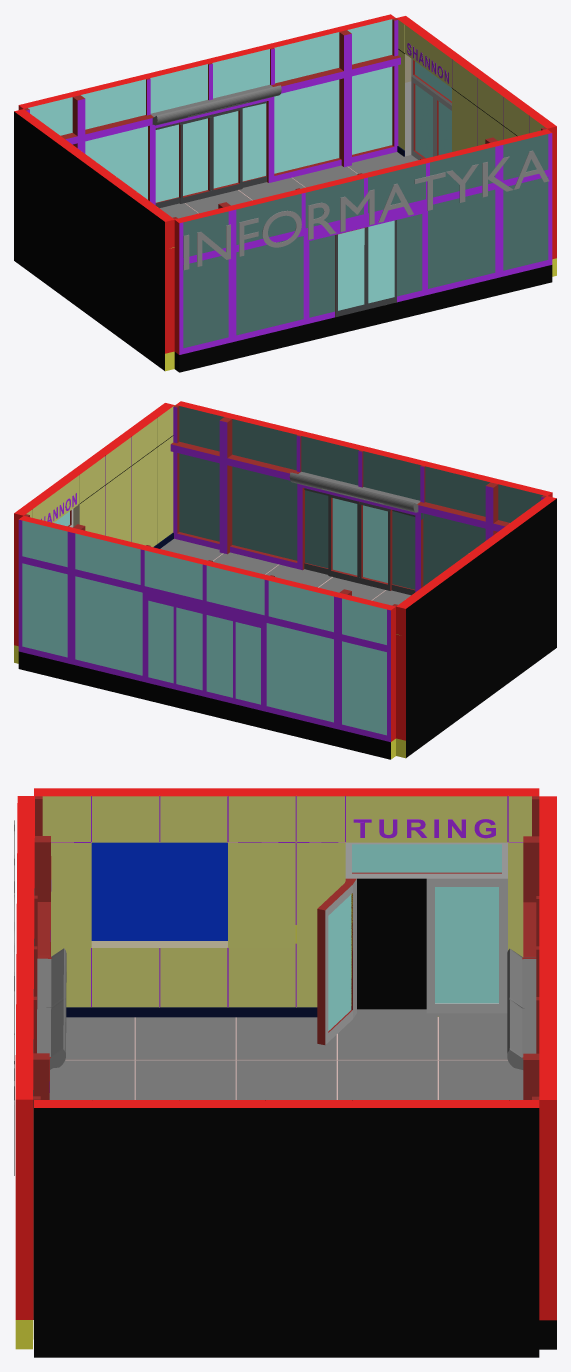
The model's file is reception.fbx.
3 renders of one model, top to bottom at view 1: azimuth 30°, elevation 25°; view 2: azimuth 150°, elevation 25°; view 3: azimuth 270°, elevation 25°, orthographic. The views are drawn at different scales.
Visible parts, largest first — view 1: wallN, wallS, wallE, wallW, floor, doorN2, doorN1; view 2: wallS, wallN, wallE, wallW, floor, doorN2, doorN1; view 3: wallW, wallE, floor, wallN, wallS, doorE.
Boxes of the visible parts, left/top/right/bottom form: wallN: left=173, top=127, right=552, bottom=372; wallS: left=18, top=14, right=400, bottom=208; wallE: left=14, top=109, right=174, bottom=371; wallW: left=396, top=16, right=556, bottom=276; floor: left=160, top=152, right=411, bottom=218; doorN2: left=335, top=227, right=366, bottom=317; doorN1: left=366, top=220, right=396, bottom=309; wallS: left=18, top=514, right=397, bottom=759; wallN: left=170, top=401, right=552, bottom=595; wallE: left=396, top=496, right=556, bottom=758; wallW: left=14, top=403, right=174, bottom=663; floor: left=160, top=538, right=410, bottom=605; doorN2: left=359, top=502, right=392, bottom=590; doorN1: left=328, top=494, right=359, bottom=583; wallW: left=34, top=1100, right=539, bottom=1357; wallE: left=34, top=788, right=539, bottom=1044; floor: left=49, top=1016, right=523, bottom=1099; wallN: left=14, top=796, right=66, bottom=1349; wallS: left=507, top=796, right=556, bottom=1349; doorE: left=357, top=878, right=426, bottom=1009.
Bounding box in the file's own units: 700 × 255 × 502.
